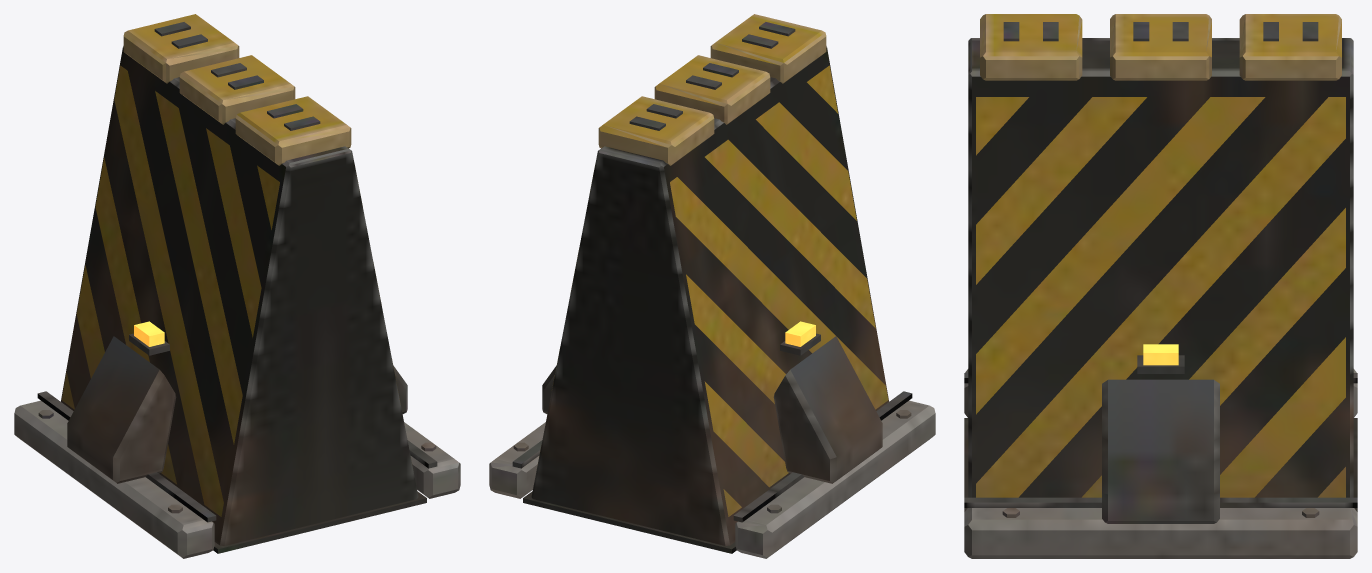
The model's file is gate.glb.
3 views of the same model, side by side, from view 1: azimuth 30°, elevation 25°; view 2: azimuth 150°, elevation 25°; view 3: azimuth 270°, elevation 25° (orthographic). The views are drawn at different scales.
Parts seen in each view (by area): view 1: anim_gate_door, body; view 2: anim_gate_door, body; view 3: anim_gate_door, body.
Part boxes in pixels (x1,y1,x2,y2): anim_gate_door: (61, 14, 418, 545); body: (14, 321, 460, 558); anim_gate_door: (531, 14, 888, 545); body: (489, 321, 935, 558); anim_gate_door: (968, 14, 1353, 497); body: (964, 344, 1357, 558).
Bounding box in the file's own units: 1 × 1.27 × 1.
2 materials, 2 textured.
